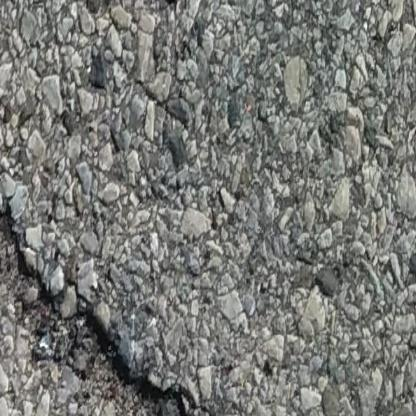Cracks: (0, 198, 231, 416)
